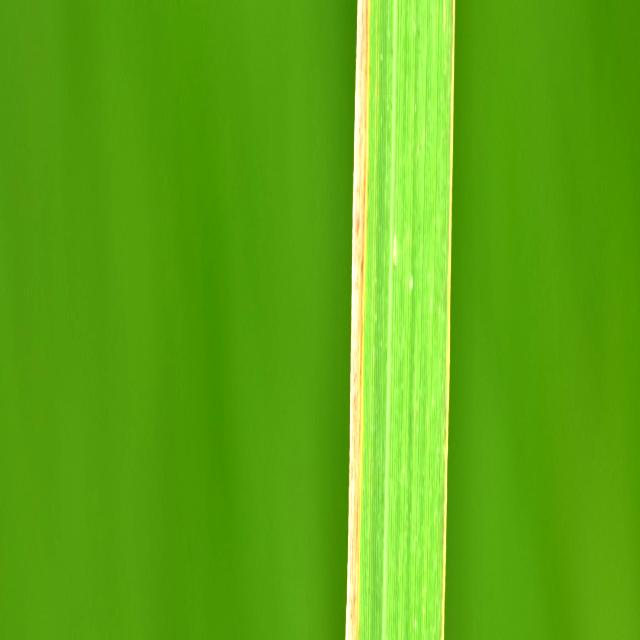BLB: (345, 0, 369, 640)
